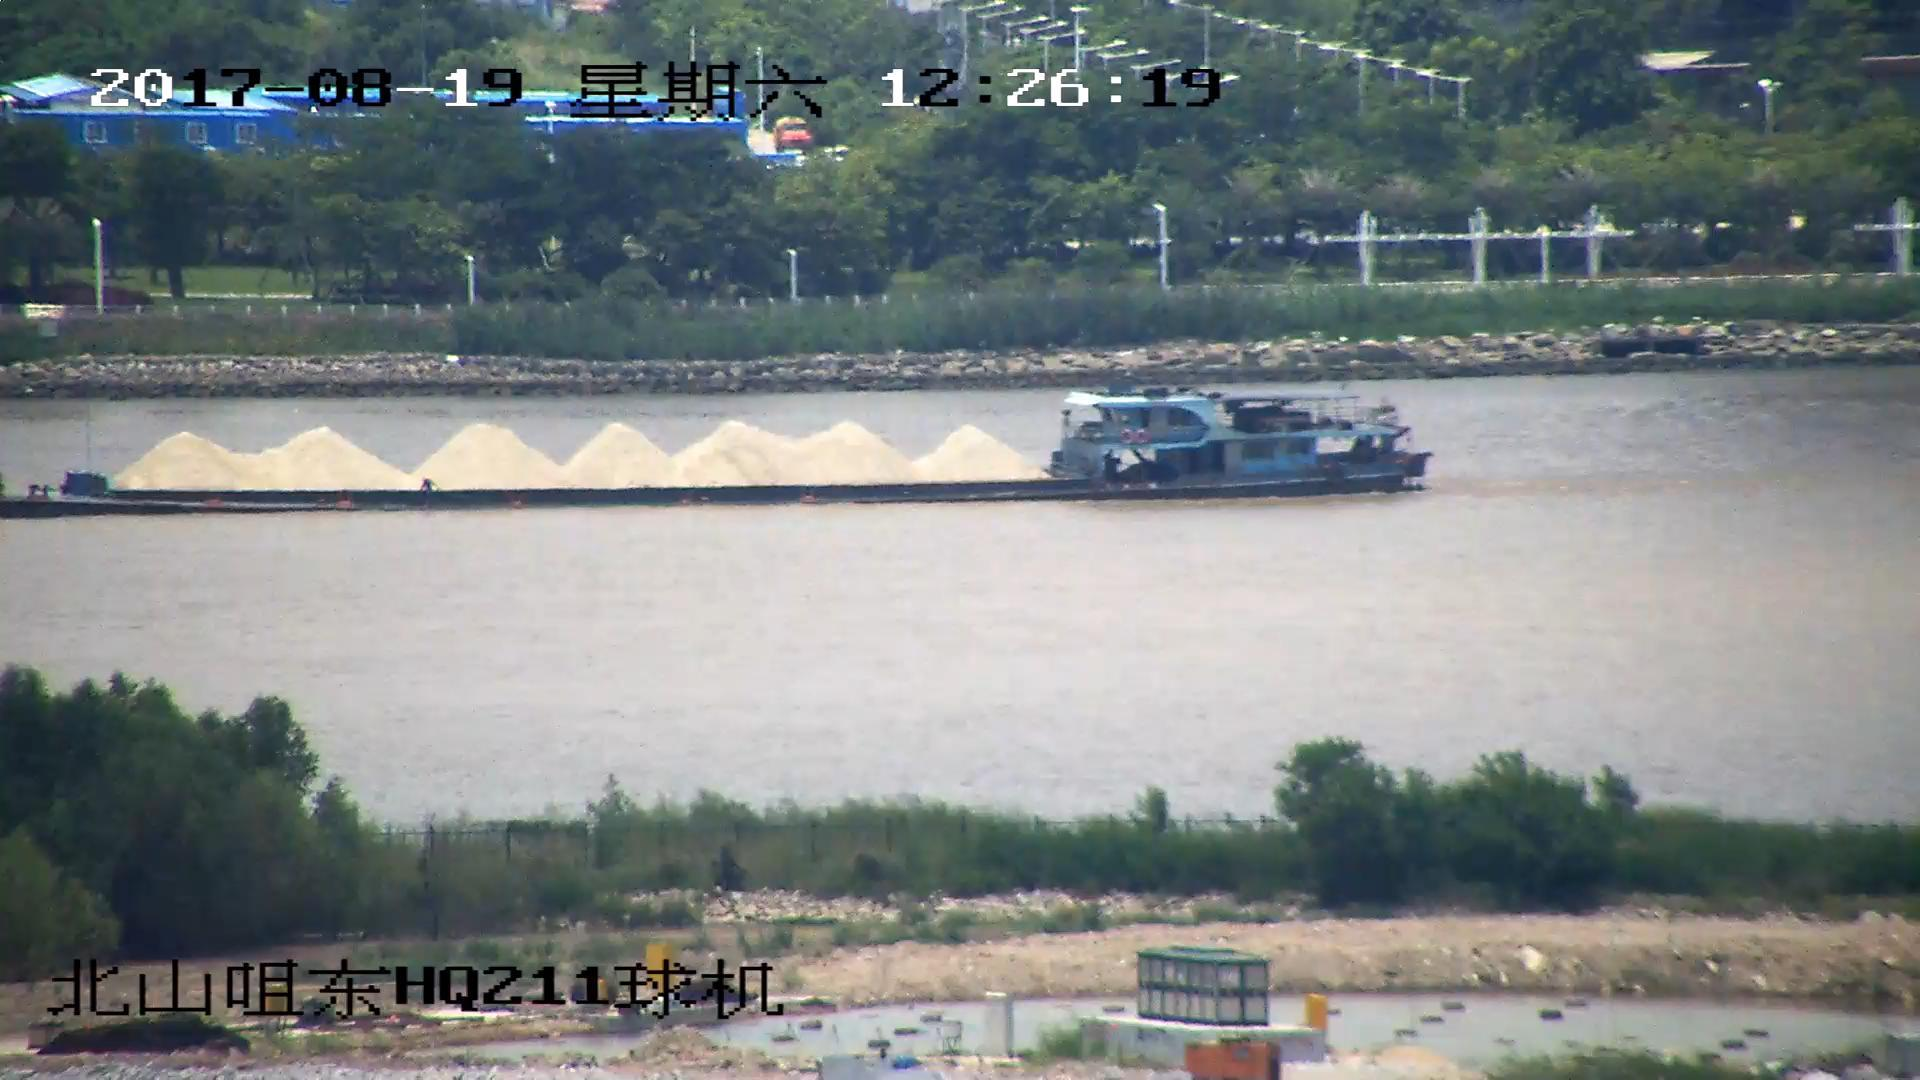Ship: (3, 373, 1432, 516)
